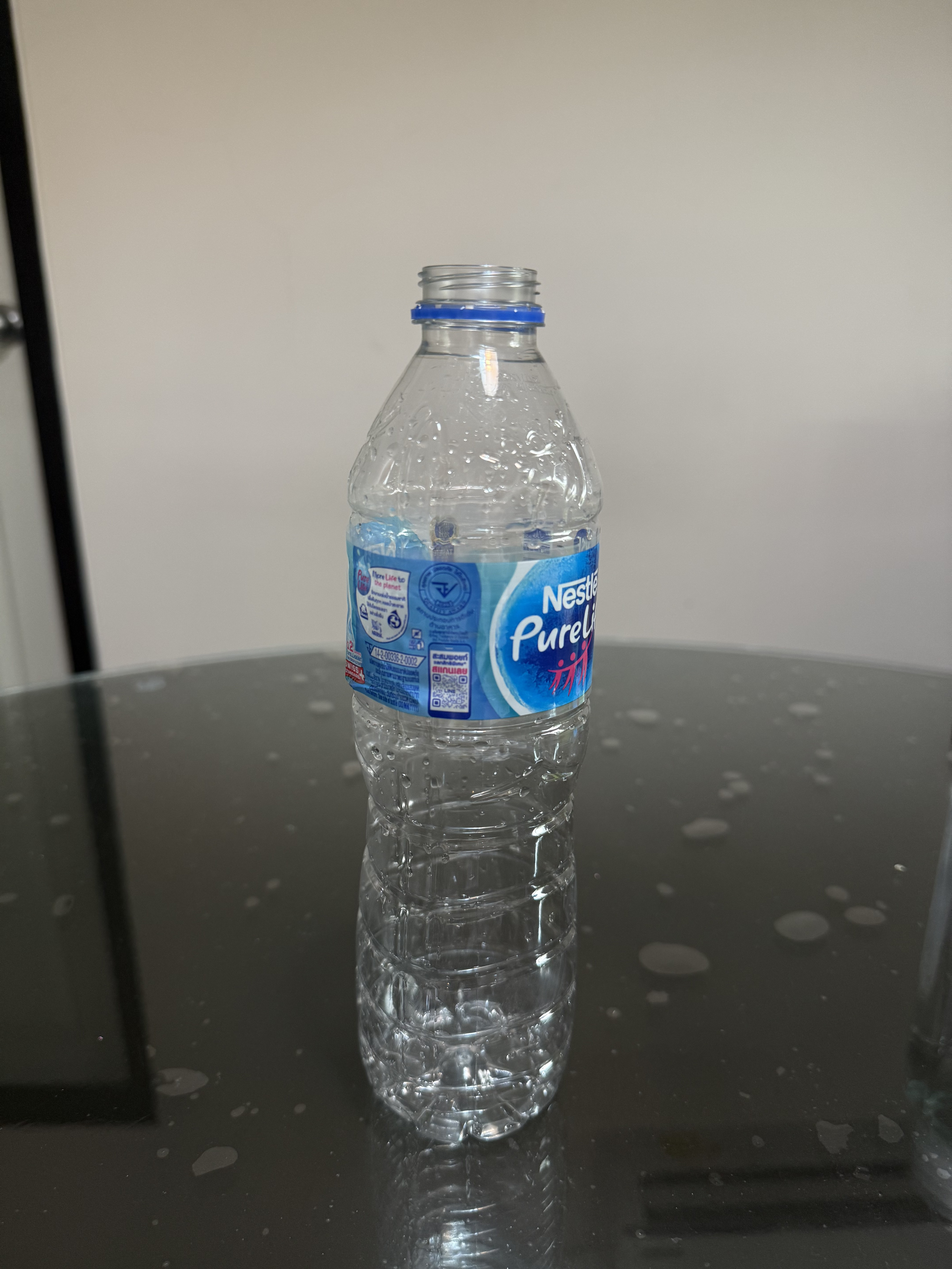no_cap: (406, 259, 550, 326)
